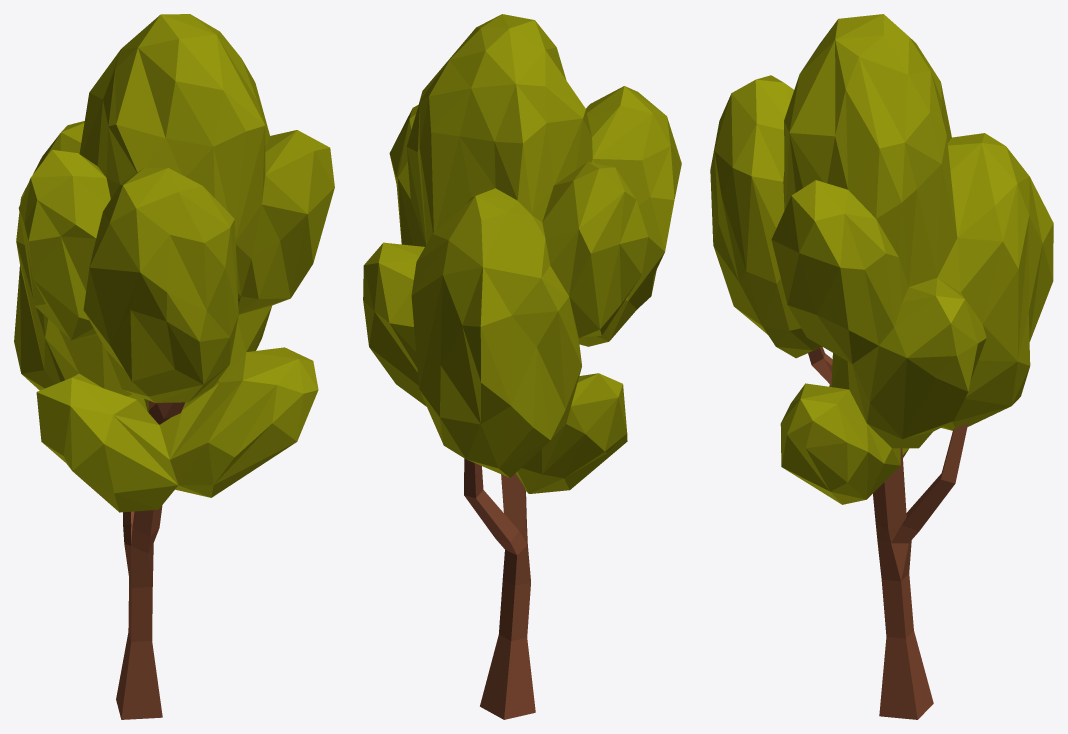
The model's file is village_pack_tree_4.glb.
3 views of the same model, side by side, from view 1: azimuth 30°, elevation 25°; view 2: azimuth 150°, elevation 25°; view 3: azimuth 270°, elevation 25° (orthographic). The views are drawn at different scales.
Parts seen in each view (by area): view 1: tree 4_leaf 1_0; view 2: tree 4_leaf 1_0; view 3: tree 4_leaf 1_0.
Boxes of the visible parts, x1=… form: tree 4_leaf 1_0: x1=14, y1=14, x2=334, y2=719; tree 4_leaf 1_0: x1=363, y1=14, x2=681, y2=719; tree 4_leaf 1_0: x1=710, y1=14, x2=1053, y2=719.
Bounding box in the file's own units: 5.53 × 13 × 5.76.
